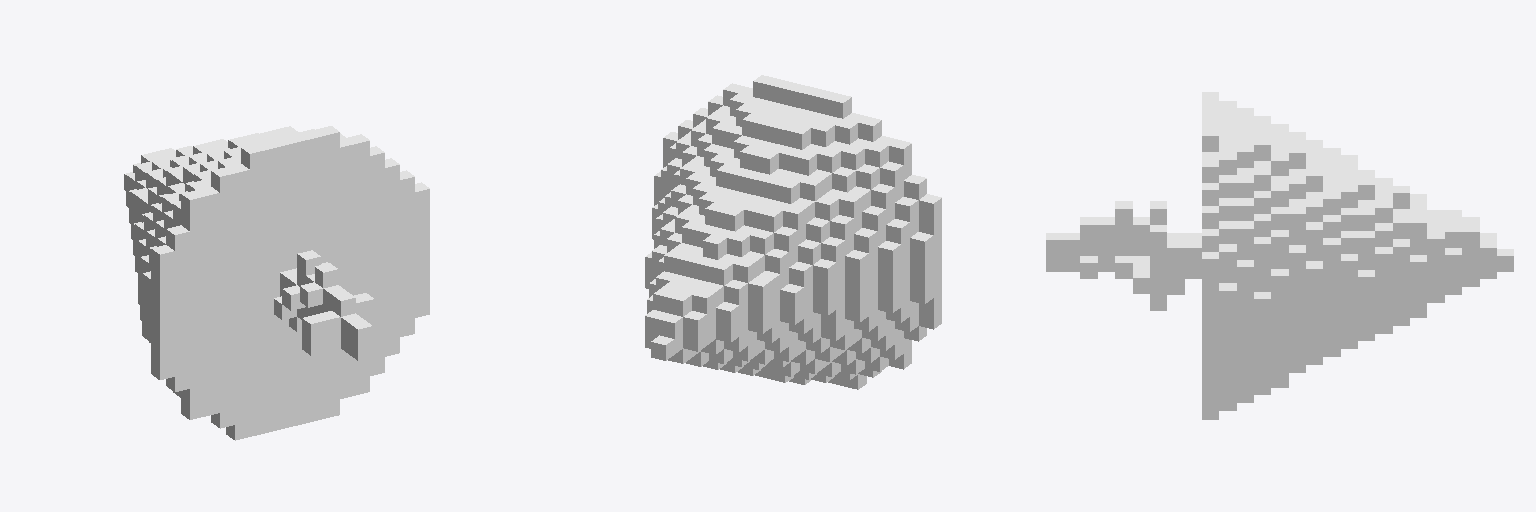
File: zanahoria-1.obj
The picture shows the model from 3 angles: view 1: azimuth 30°, elevation 25°; view 2: azimuth 150°, elevation 25°; view 3: azimuth 270°, elevation 25°; orthographic projection.
Visible parts, largest first — view 1: object 1; view 2: object 1; view 3: object 1.
Boxes of the visible parts, x1=… form: object 1: x1=124, y1=126, x2=429, y2=440; object 1: x1=645, y1=75, x2=941, y2=389; object 1: x1=1046, y1=92, x2=1513, y2=419.
Bounding box in the file's own units: 1.8 × 1.8 × 2.7.